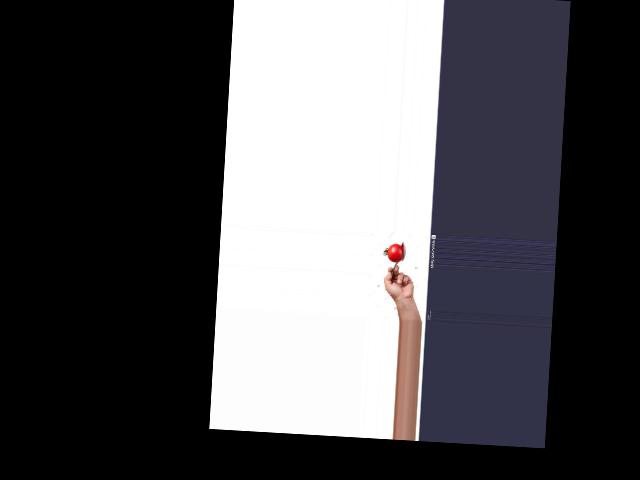tomato: (386, 243, 403, 263)
